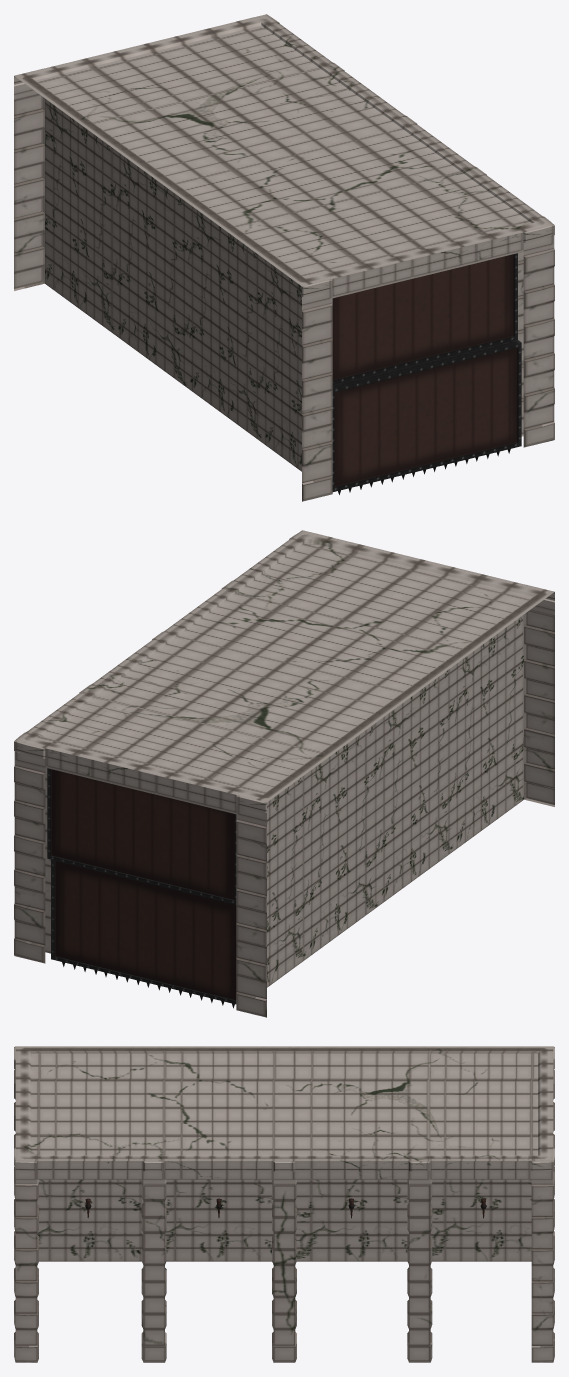
Rendered from templopuertas.fbx.
3 renders of one model, top to bottom at view 1: azimuth 30°, elevation 25°; view 2: azimuth 150°, elevation 25°; view 3: azimuth 270°, elevation 25°, orthographic. The views are drawn at different scales.
Visible parts, largest first — view 1: templo, polySurface3, puertasuperior1; view 2: templo, polySurface23, puertasuperior5; view 3: templo.
Part boxes in pixels (x1=…): templo: x1=14, y1=14, x2=554, y2=501; polySurface3: x1=332, y1=340, x2=521, y2=491; puertasuperior1: x1=332, y1=253, x2=517, y2=384; templo: x1=14, y1=530, x2=554, y2=1017; polySurface23: x1=51, y1=859, x2=236, y2=1004; puertasuperior5: x1=47, y1=768, x2=236, y2=904; templo: x1=14, y1=1046, x2=554, y2=1362.
Size of the model in its own units: 21.49 by 17.95 by 42.4.
1 material, 1 textured.
